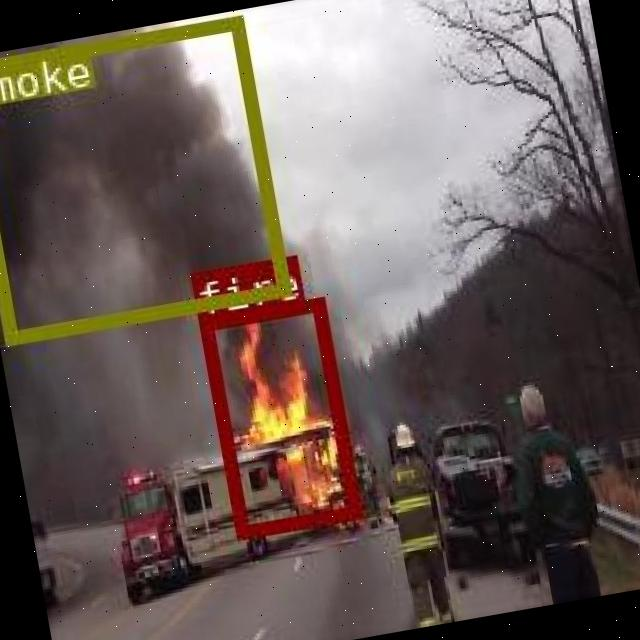fire: (196, 294, 360, 538)
smoke: (0, 14, 289, 343)
